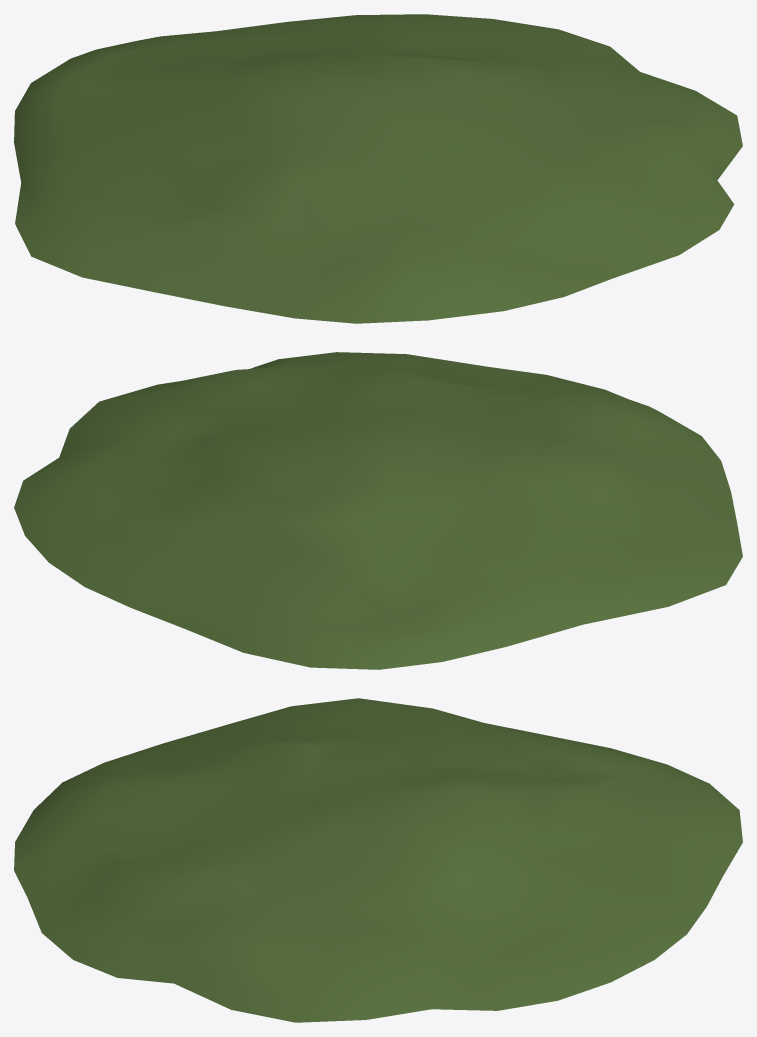
Rendered from Small_Hill Asia.fbx.
3 renders of one model, top to bottom at view 1: azimuth 30°, elevation 25°; view 2: azimuth 150°, elevation 25°; view 3: azimuth 270°, elevation 25°, orthographic. The views are drawn at different scales.
Parts seen in each view (by area): view 1: Small_Hill; view 2: Small_Hill; view 3: Small_Hill.
Part boxes in pixels (left/top/right/bottom): Small_Hill: left=14, top=14, right=742, bottom=323; Small_Hill: left=14, top=352, right=742, bottom=669; Small_Hill: left=14, top=698, right=742, bottom=1022.
Bounding box in the file's own units: 1463 × 135 × 1388.
